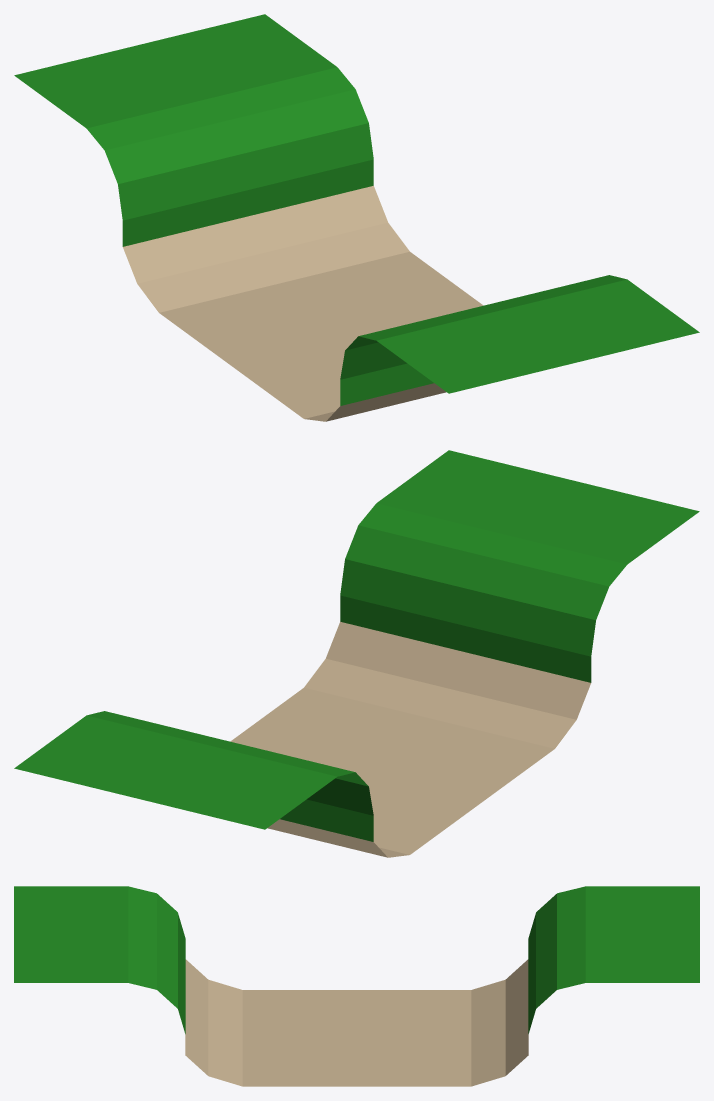
Rendered from Track_Standard_Straight_Single.obj.
3 renders of one model, top to bottom at view 1: azimuth 30°, elevation 25°; view 2: azimuth 150°, elevation 25°; view 3: azimuth 270°, elevation 25°, orthographic. The views are drawn at different scales.
Visible parts, largest first — view 1: Grass, Dirt; view 2: Grass, Dirt; view 3: Grass, Dirt.
Boxes of the visible parts, left/top/right/bottom form: Grass: left=14, top=14, right=699, bottom=405; Dirt: left=123, top=185, right=483, bottom=421; Grass: left=14, top=450, right=699, bottom=841; Dirt: left=230, top=621, right=590, bottom=857; Grass: left=14, top=886, right=699, bottom=1034; Dirt: left=185, top=959, right=528, bottom=1086.
Size of the model in its own units: 1 by 0.5 by 3.
